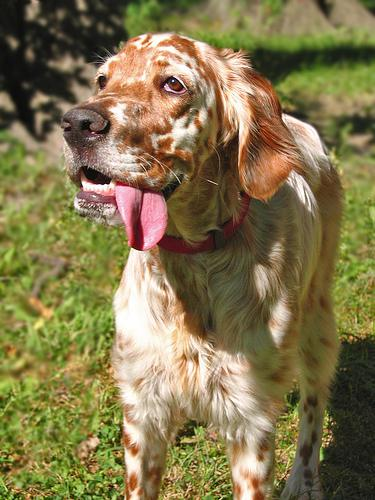dog-english_setter: (58, 32, 298, 249)
